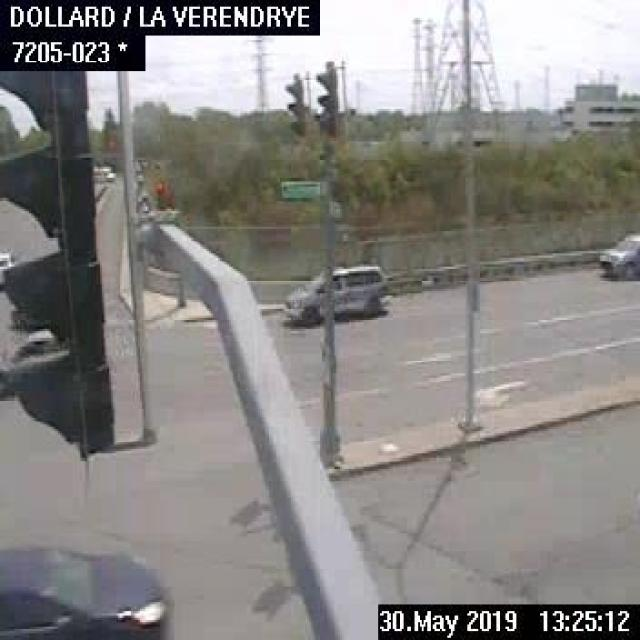vehicle: (0, 540, 173, 638), (280, 258, 390, 326), (0, 326, 67, 397), (595, 229, 638, 278), (0, 246, 15, 286), (94, 165, 114, 182)
